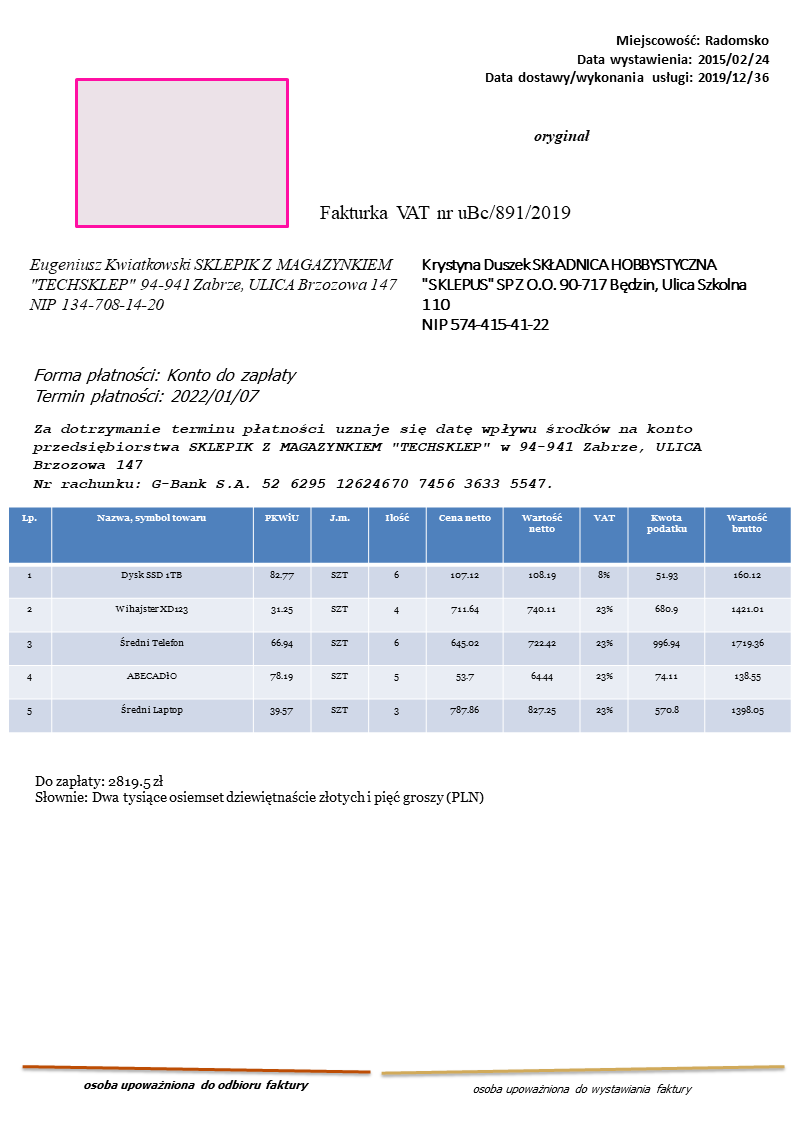Table: (6, 505, 794, 732)
TextBox: (31, 421, 704, 494), (418, 255, 748, 335), (26, 254, 401, 315), (31, 771, 486, 810), (479, 31, 773, 87), (31, 363, 301, 409), (317, 200, 573, 222), (470, 1080, 695, 1099), (81, 1075, 310, 1093), (529, 126, 592, 145)
